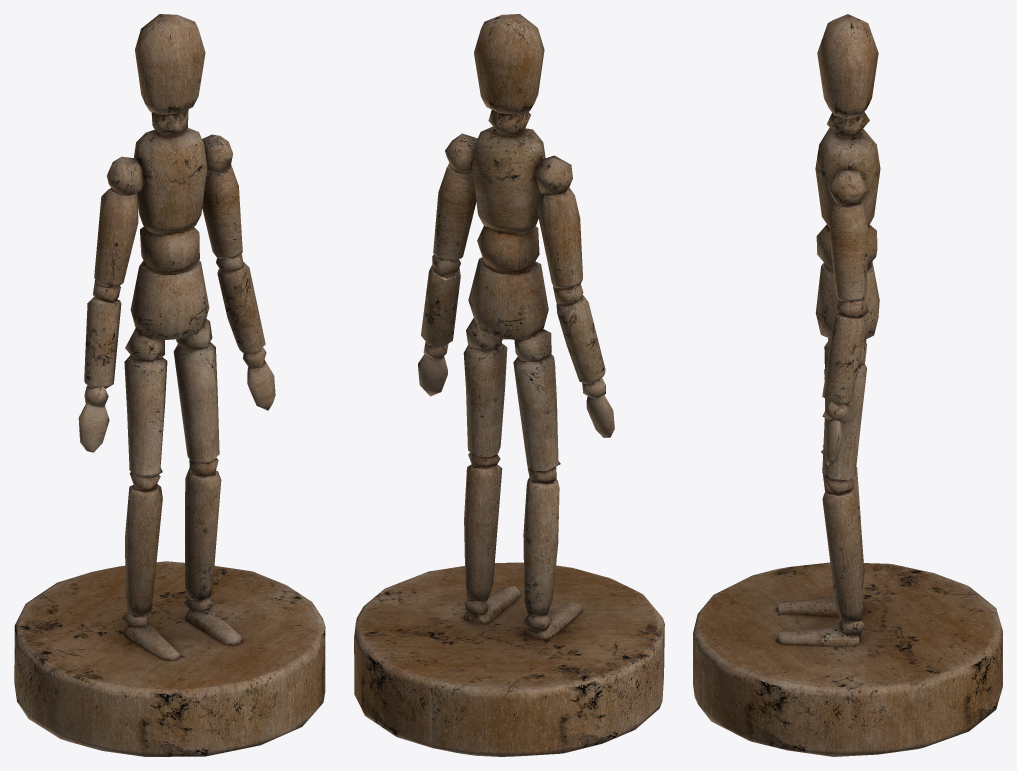
The model's file is SM_Figure_Figure.glb.
3 views of the same model, side by side, from view 1: azimuth 30°, elevation 25°; view 2: azimuth 150°, elevation 25°; view 3: azimuth 270°, elevation 25° (orthographic).
Visible parts, largest first — view 1: SM_Figure_Figure; view 2: SM_Figure_Figure; view 3: SM_Figure_Figure.
Boxes of the visible parts, <box> form: SM_Figure_Figure: <box>14,14,325,756</box>; SM_Figure_Figure: <box>354,14,664,756</box>; SM_Figure_Figure: <box>693,14,1002,756</box>.
Size of the model in its own units: 0.3339 by 0.8013 by 0.3339.
1 material, 1 textured.
